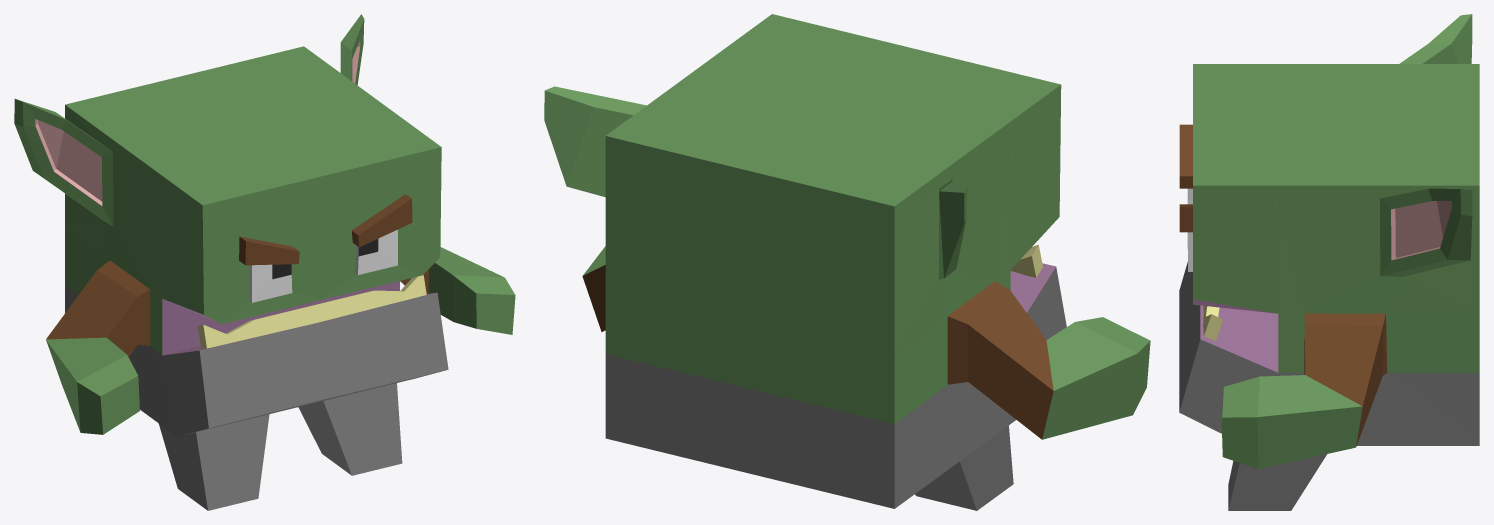
Rendered from Monster-Grunt.fbx.
3 renders of one model, left to right at view 1: azimuth 30°, elevation 25°; view 2: azimuth 150°, elevation 25°; view 3: azimuth 270°, elevation 25°, orthographic. The views are drawn at different scales.
Parts seen in each view (by area): view 1: Enemy-Grunt; view 2: Enemy-Grunt; view 3: Enemy-Grunt.
Part boxes in pixels (x1,y1,x2,y2): Enemy-Grunt: (14, 14, 515, 510); Enemy-Grunt: (544, 14, 1150, 510); Enemy-Grunt: (1179, 14, 1479, 510).
Bounding box in the file's own units: 358 × 276 × 209.
